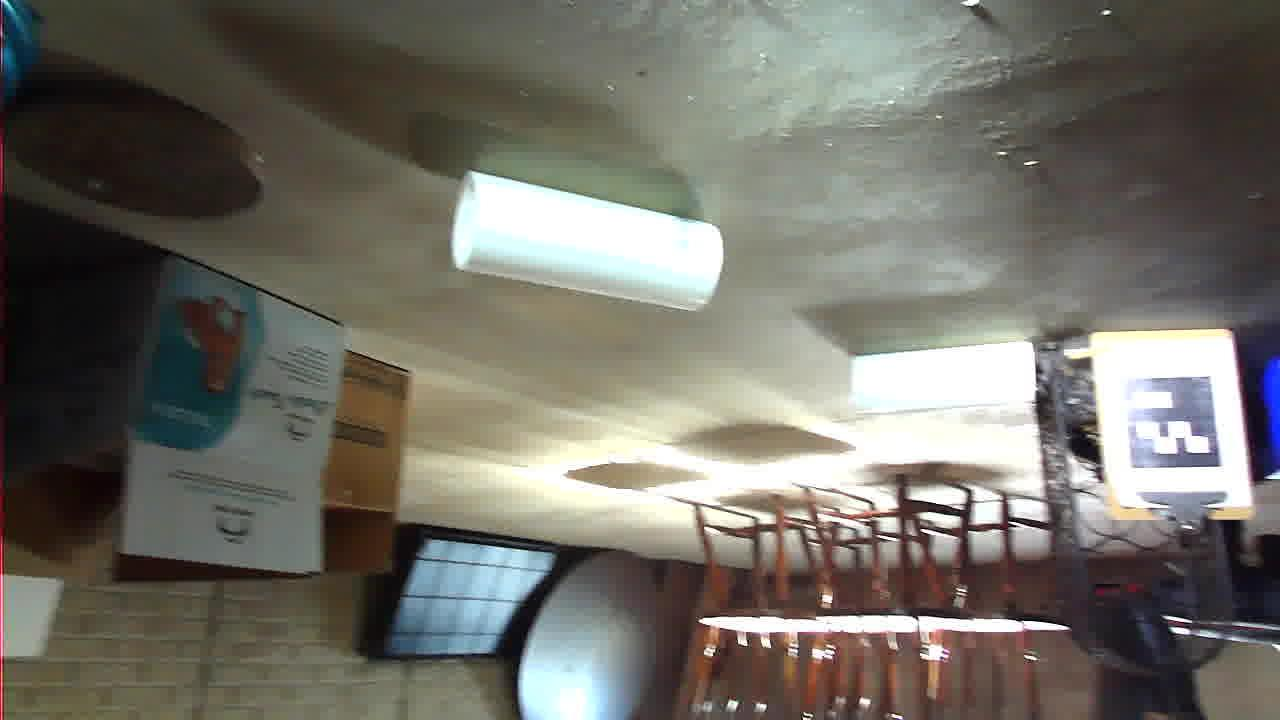coral: (551, 401, 834, 555)
